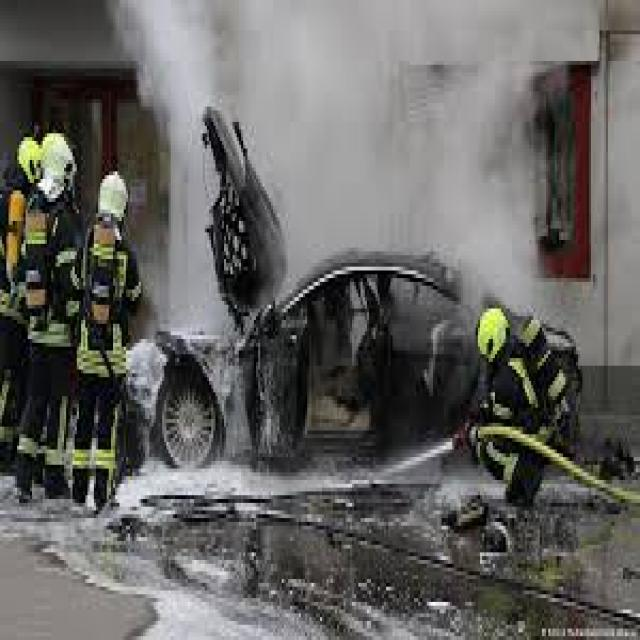smoke: (117, 4, 548, 324)
